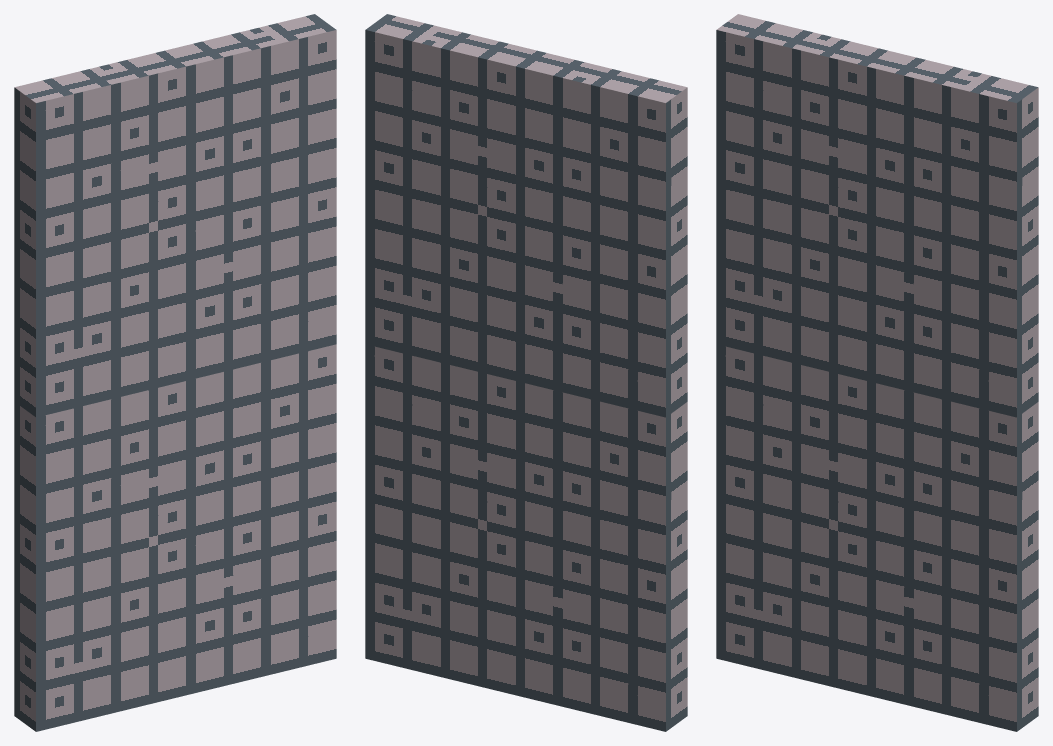
File: wall_textured_d_2_col.gltf
3 renders of one model, left to right at view 1: azimuth 30°, elevation 25°; view 2: azimuth 150°, elevation 25°; view 3: azimuth 330°, elevation 25°, orthographic.
Visible parts, largest first — view 1: wall_textured_d_2_col; view 2: wall_textured_d_2_col; view 3: wall_textured_d_2_col.
Part boxes in pixels (box(x1,y1,x2,y2)): wall_textured_d_2_col: box(14, 14, 336, 731); wall_textured_d_2_col: box(365, 14, 687, 731); wall_textured_d_2_col: box(716, 14, 1038, 731).
Size of the model in its own units: 2 by 4 by 0.25.
1 material, 1 textured.
